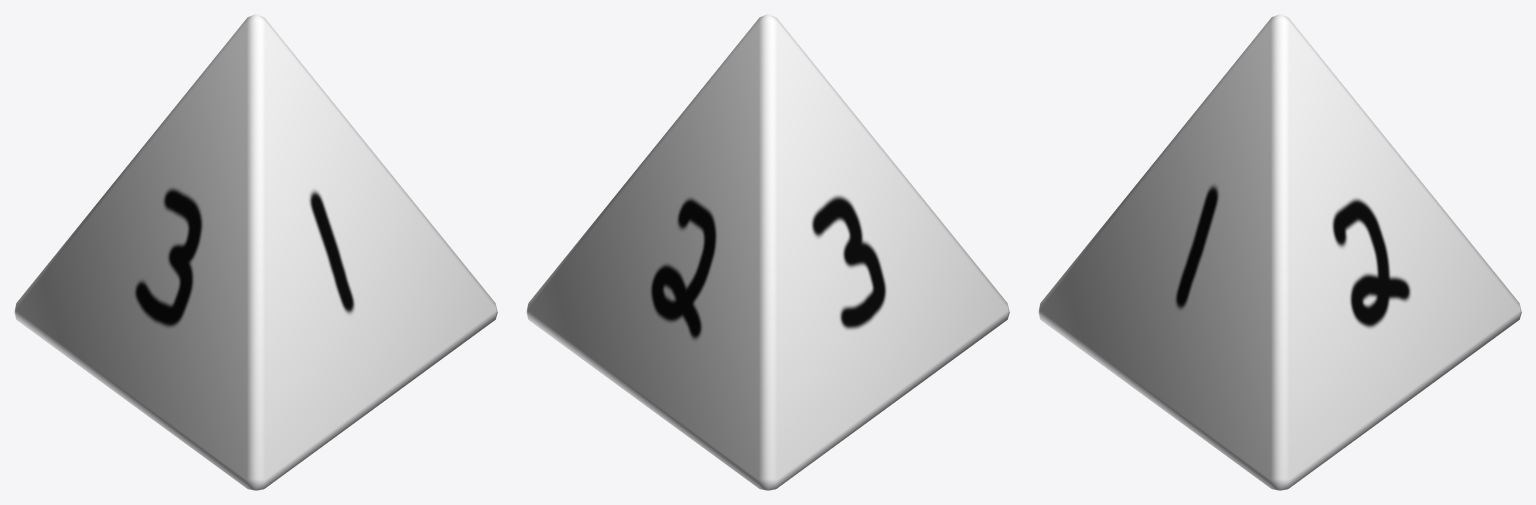
Rendered from Quinns_D4.glb.
The picture shows the model from 3 angles, left to right: view 1: azimuth 30°, elevation 25°; view 2: azimuth 150°, elevation 25°; view 3: azimuth 270°, elevation 25°; orthographic projection.
Visible parts, largest first — view 1: d4_geo; view 2: d4_geo; view 3: d4_geo.
Boxes of the visible parts, x1=… form: d4_geo: x1=14, y1=14, x2=497, y2=490; d4_geo: x1=526, y1=14, x2=1009, y2=490; d4_geo: x1=1038, y1=14, x2=1521, y2=490.
Bounding box in the file's own units: 1.34 × 1.27 × 1.53.
1 material, 1 textured.
